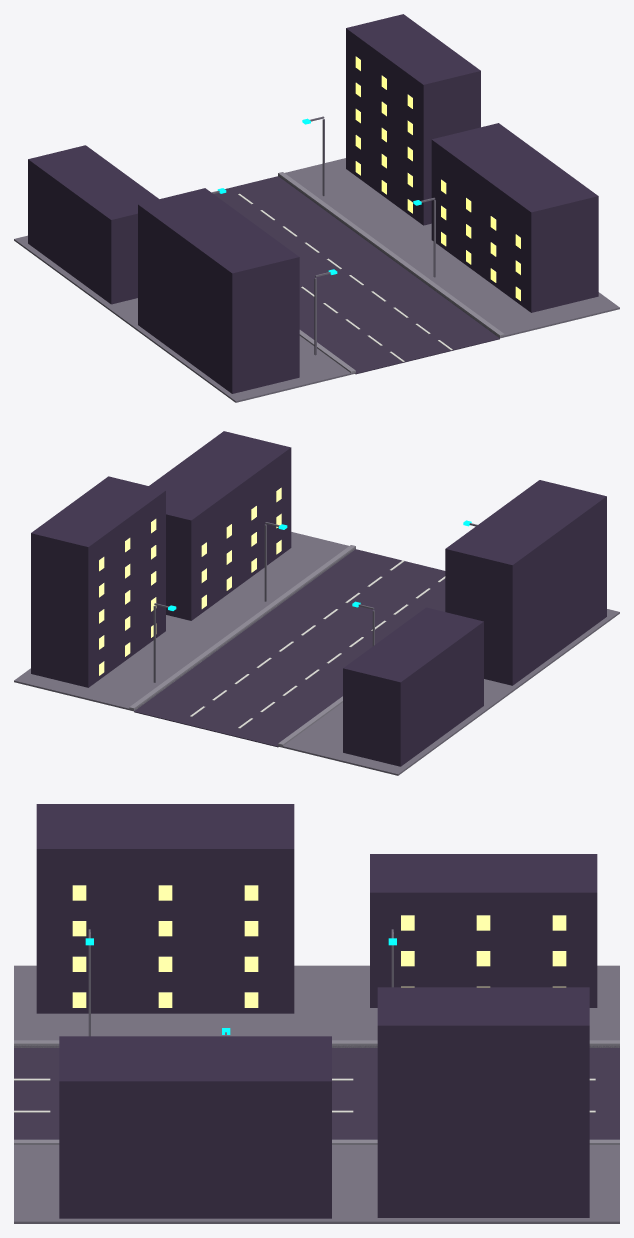
Rendered from road1.glb.
The picture shows the model from 3 angles, top to bottom: view 1: azimuth 30°, elevation 25°; view 2: azimuth 150°, elevation 25°; view 3: azimuth 270°, elevation 25°; orthographic projection. The views are drawn at different scales.
Visible parts, largest first — view 1: Road; view 2: Road; view 3: Road.
Part boxes in pixels (x1=…): Road: x1=14, y1=14, x2=619, y2=402; Road: x1=14, y1=431, x2=619, y2=775; Road: x1=14, y1=804, x2=619, y2=1223.
Bounding box in the file's own units: 20 × 7.12 × 20.
